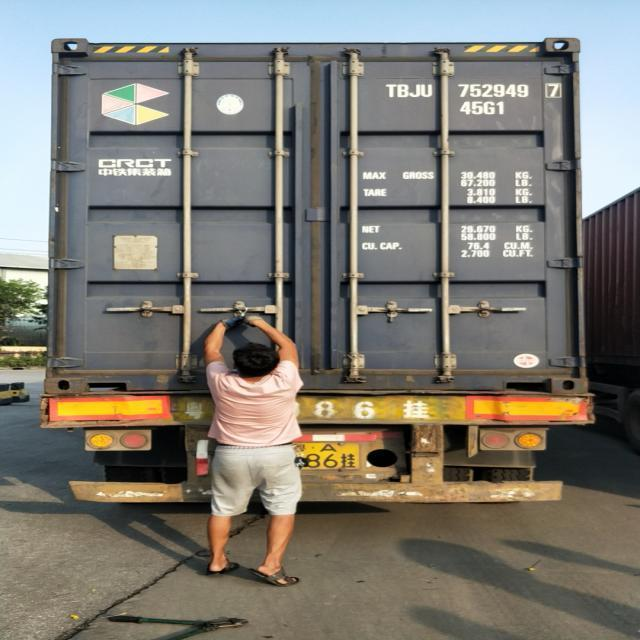ISO: (462, 101, 507, 118)
container_number: (388, 81, 555, 100)
